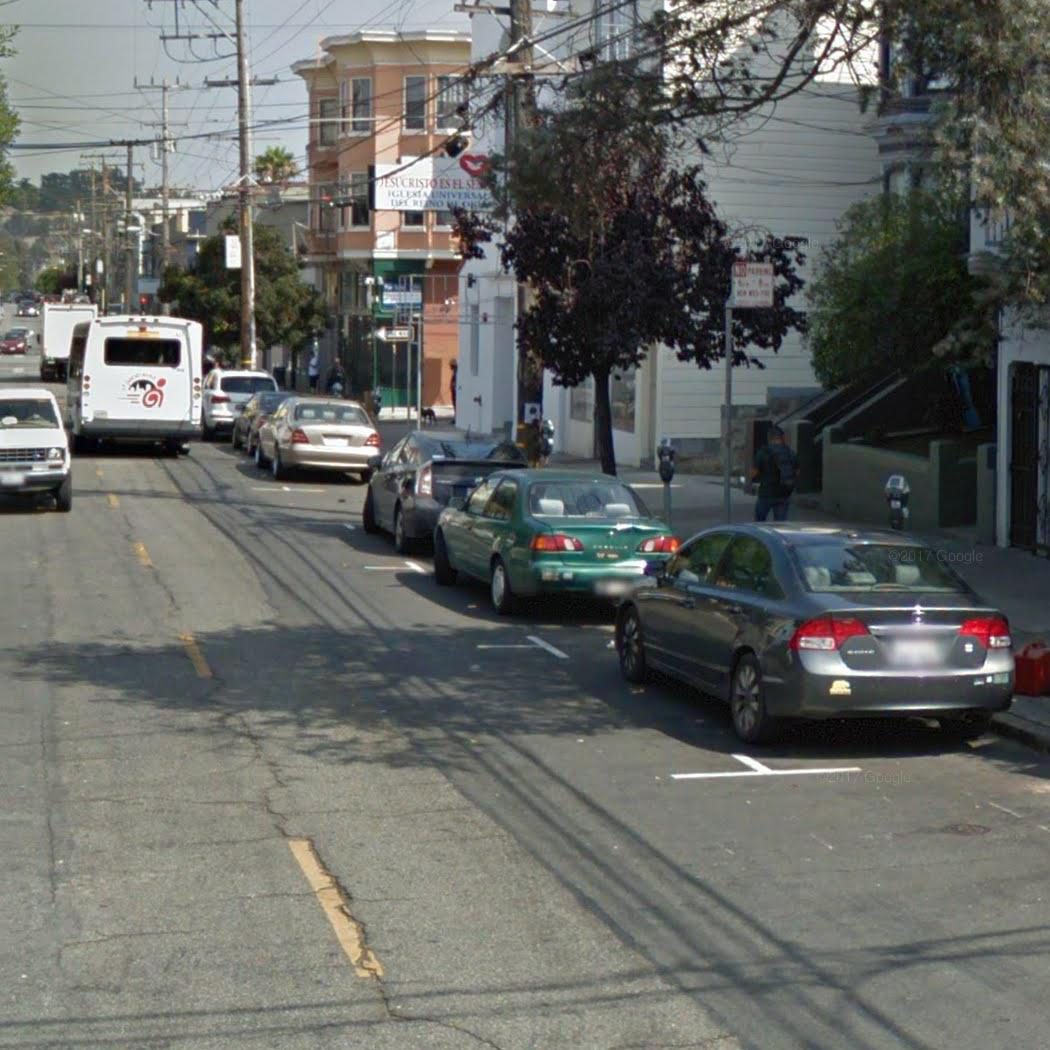No Parking: (728, 260, 777, 310)
